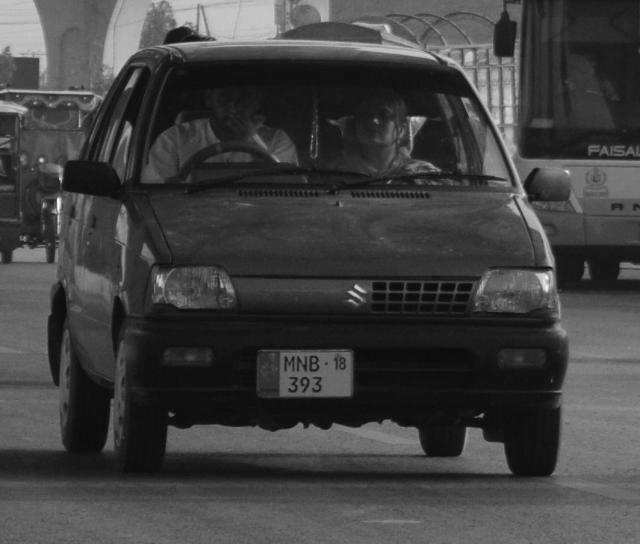Number: (284, 356, 342, 396)
